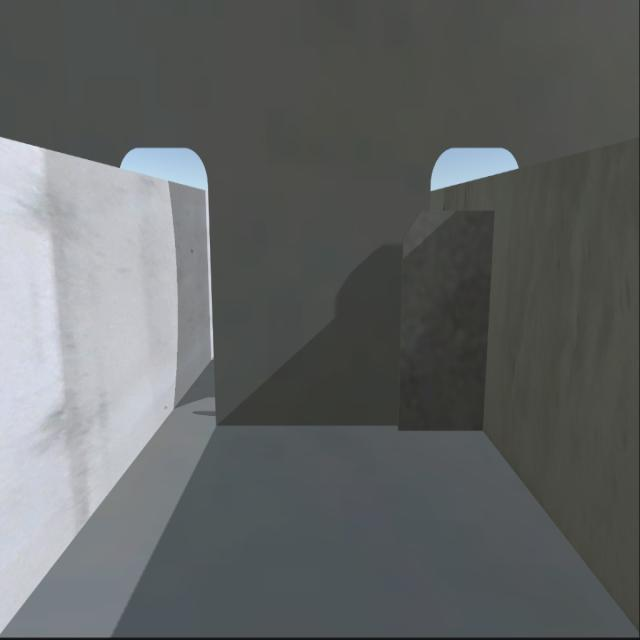fillet_yong_jeop_jang: (214, 421, 486, 436)
longi_yong_jeop_jang: (479, 213, 497, 433)
plate_CP03: (401, 205, 491, 433)
